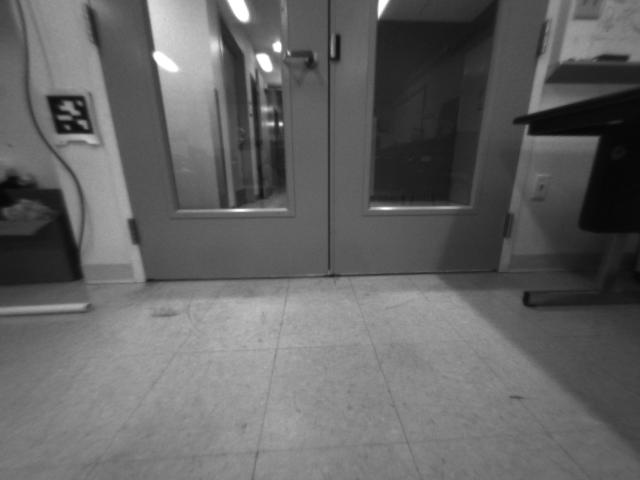door_handle: (276, 44, 321, 69)
